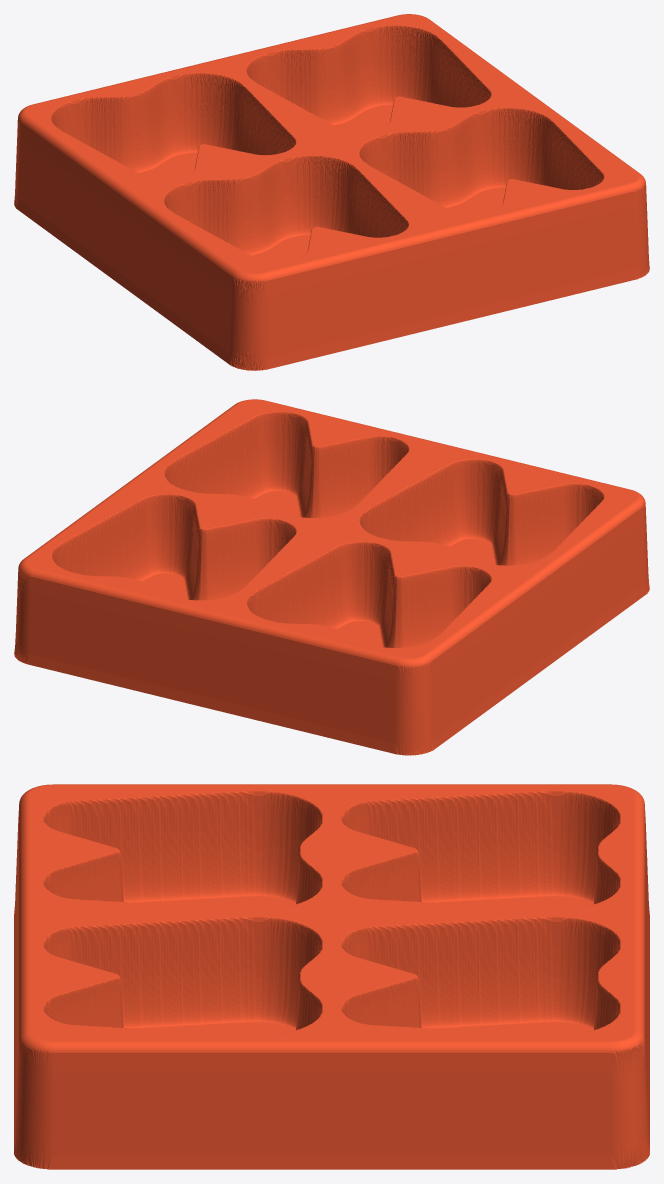
Rendered from mold.glb.
The picture shows the model from 3 angles, top to bottom: view 1: azimuth 30°, elevation 25°; view 2: azimuth 150°, elevation 25°; view 3: azimuth 270°, elevation 25°; orthographic projection. The views are drawn at different scales.
Visible parts, largest first — view 1: geometry_0; view 2: geometry_0; view 3: geometry_0.
Boxes of the visible parts, x1,y1,x2,y2 form: geometry_0: (14, 14, 649, 370); geometry_0: (14, 399, 649, 755); geometry_0: (14, 784, 649, 1169).
Size of the model in its own units: 0.1466 by 0.031 by 0.1466.
